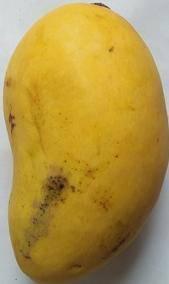Ripe: (1, 0, 169, 284)
